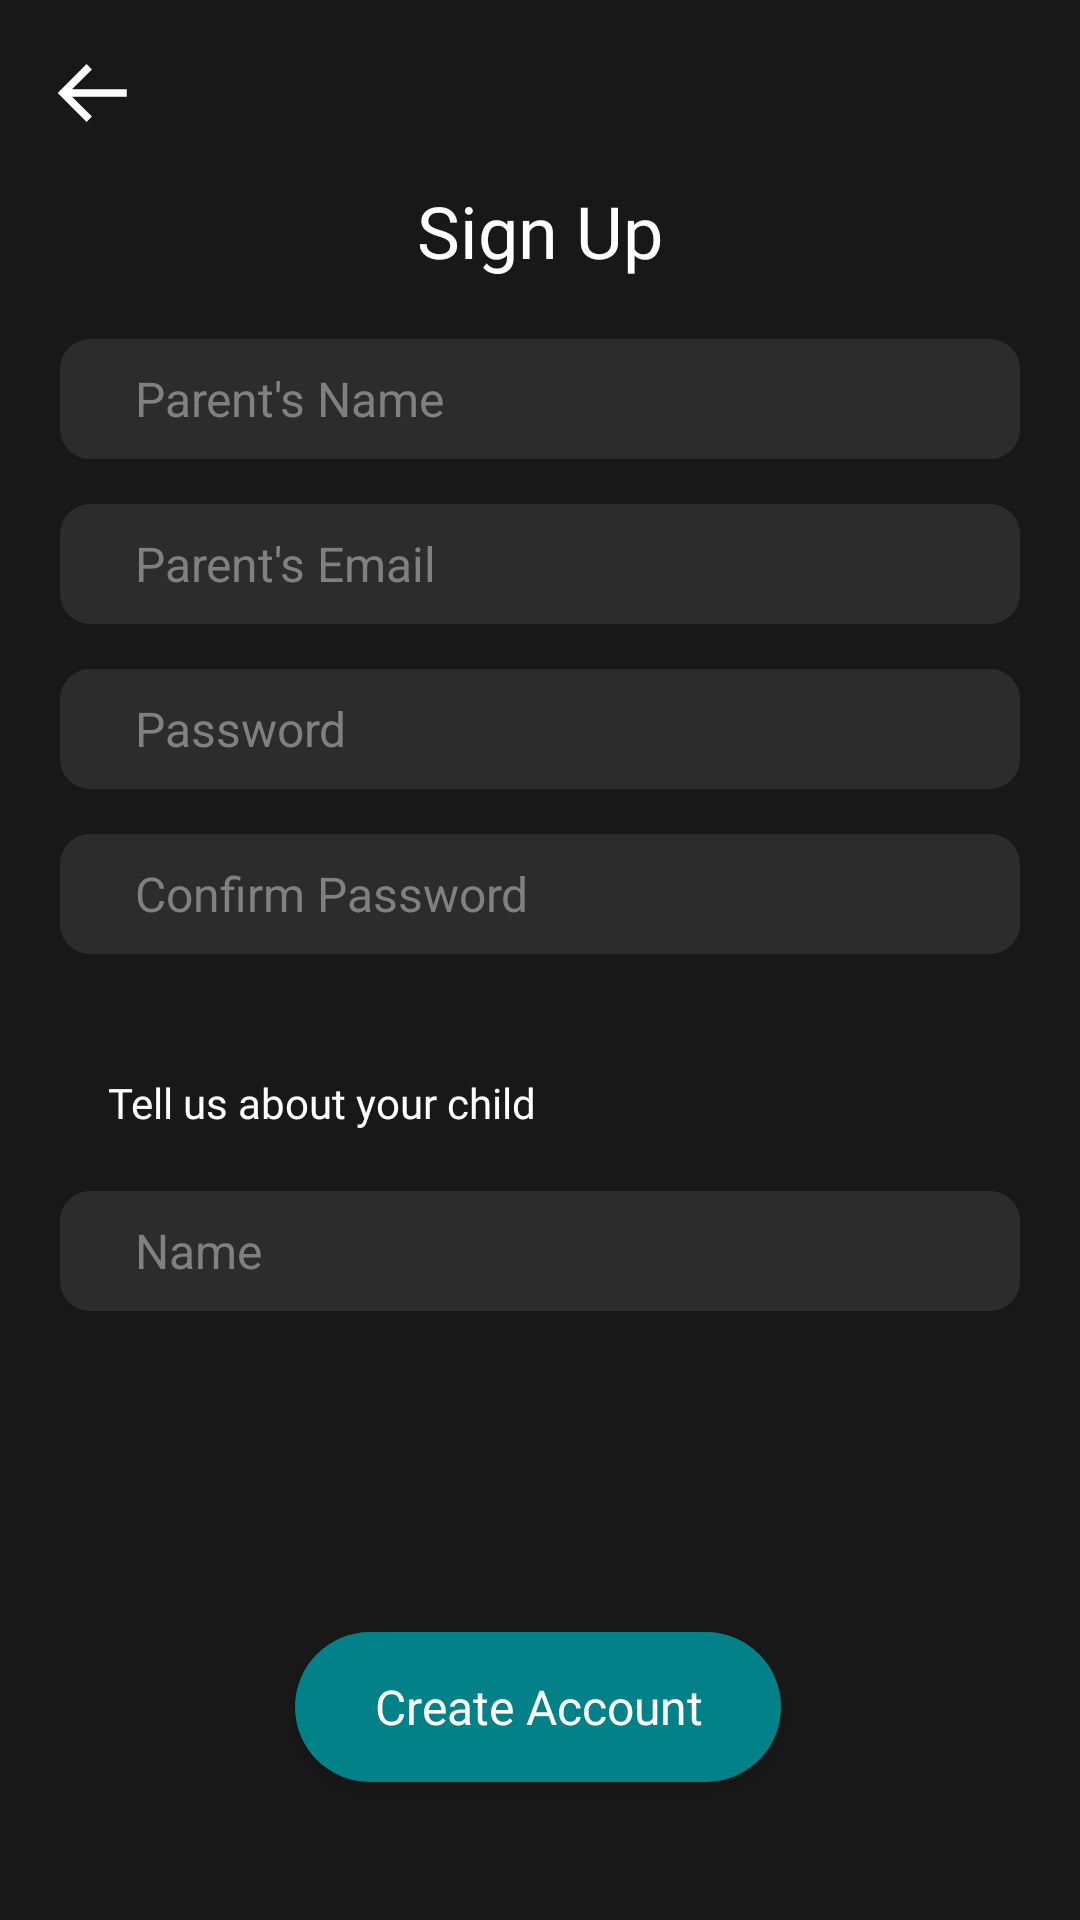

Locate icon controls on the screen. Image size 1080 x 1920, boxes as (x1, y1, x2, y2).
back: (58, 64, 127, 122)
